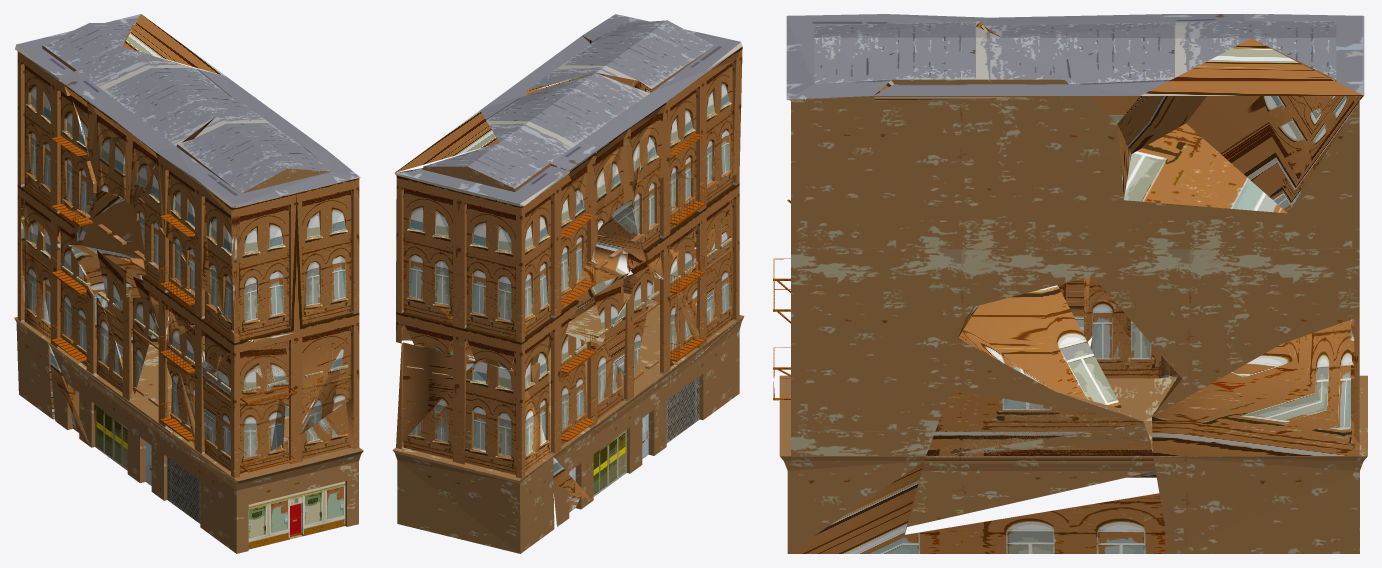
Rendered from A03_Destr.FBX.
3 renders of one model, left to right at view 1: azimuth 30°, elevation 25°; view 2: azimuth 150°, elevation 25°; view 3: azimuth 270°, elevation 25°, orthographic. The views are drawn at different scales.
Parts seen in each view (by area): view 1: K_Building_A03_00_Part_5, K_Building_A03_00_Part_11, K_Building_A03_00_Part_15, K_Building_A03_00_Part_8, K_Building_A03_00_Part_6, K_Building_A03_00_Part_9, K_Building_A03_00_Part_1, K_Building_A03_00_Part_12, K_Building_A03_00_Part_10, K_Building_A03_00_Part_2, K_Building_A03_00_Part_7, K_Building_A03_00_Part_14 (+3 smaller); view 2: K_Building_A03_00_Part_6, K_Building_A03_00_Part_1, K_Building_A03_00_Part_5, K_Building_A03_00_Part_8, K_Building_A03_00_Part_9, K_Building_A03_00_Part_12, K_Building_A03_00_Part_15, K_Building_A03_00_Part_11, K_Building_A03_00_Part_2, K_Building_A03_00_Part_10, K_Building_A03_00_Part_7, K_Building_A03_00_Part_14 (+2 smaller); view 3: K_Building_A03_00_Part_14, K_Building_A03_00_Part_1, K_Building_A03_00_Part_5, K_Building_A03_00_Part_13, K_Building_A03_00_Part_7, K_Building_A03_00_Part_6, K_Building_A03_00_Part_11, K_Building_A03_00_Part_8, K_Building_A03_00_Part_15, K_Building_A03_00_Part_2, K_Building_A03_00_Part_4, K_Building_A03_00_Part_10.
Boxes of the visible parts, x1,y1,x2,y2 form: K_Building_A03_00_Part_5: [140, 135, 360, 339]; K_Building_A03_00_Part_11: [177, 340, 363, 553]; K_Building_A03_00_Part_15: [163, 317, 359, 478]; K_Building_A03_00_Part_8: [59, 47, 245, 204]; K_Building_A03_00_Part_6: [15, 14, 151, 245]; K_Building_A03_00_Part_9: [133, 197, 259, 384]; K_Building_A03_00_Part_1: [14, 210, 158, 419]; K_Building_A03_00_Part_12: [48, 243, 158, 446]; K_Building_A03_00_Part_10: [89, 292, 171, 470]; K_Building_A03_00_Part_2: [103, 292, 179, 422]; K_Building_A03_00_Part_7: [127, 384, 188, 515]; K_Building_A03_00_Part_14: [194, 90, 327, 150]; K_Building_A03_00_Part_6: [394, 143, 597, 375]; K_Building_A03_00_Part_1: [392, 340, 554, 553]; K_Building_A03_00_Part_5: [582, 14, 742, 179]; K_Building_A03_00_Part_8: [480, 73, 665, 231]; K_Building_A03_00_Part_9: [587, 174, 739, 294]; K_Building_A03_00_Part_12: [546, 333, 596, 526]; K_Building_A03_00_Part_15: [582, 193, 739, 373]; K_Building_A03_00_Part_11: [567, 281, 744, 429]; K_Building_A03_00_Part_2: [576, 261, 681, 396]; K_Building_A03_00_Part_10: [549, 343, 643, 500]; K_Building_A03_00_Part_7: [545, 328, 684, 473]; K_Building_A03_00_Part_14: [488, 36, 638, 146]; K_Building_A03_00_Part_14: [874, 26, 1131, 306]; K_Building_A03_00_Part_1: [1152, 318, 1367, 553]; K_Building_A03_00_Part_5: [786, 14, 989, 326]; K_Building_A03_00_Part_13: [1092, 123, 1353, 378]; K_Building_A03_00_Part_7: [899, 368, 1169, 553]; K_Building_A03_00_Part_6: [1186, 14, 1364, 318]; K_Building_A03_00_Part_11: [773, 375, 939, 553]; K_Building_A03_00_Part_8: [984, 14, 1251, 153]; K_Building_A03_00_Part_15: [773, 258, 966, 404]; K_Building_A03_00_Part_2: [958, 276, 1122, 408]; K_Building_A03_00_Part_4: [1140, 38, 1363, 95]; K_Building_A03_00_Part_10: [1064, 308, 1169, 477].
Bounding box in the file's own units: 640 × 1694 × 1913.
